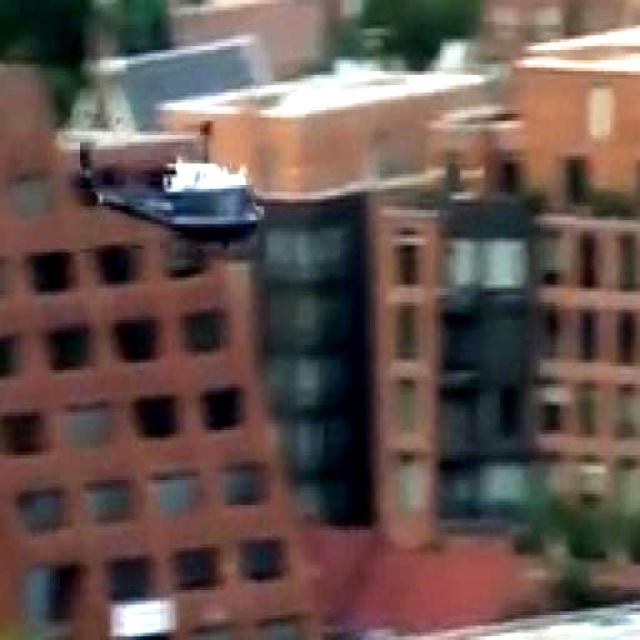drone: (79, 114, 271, 258)
